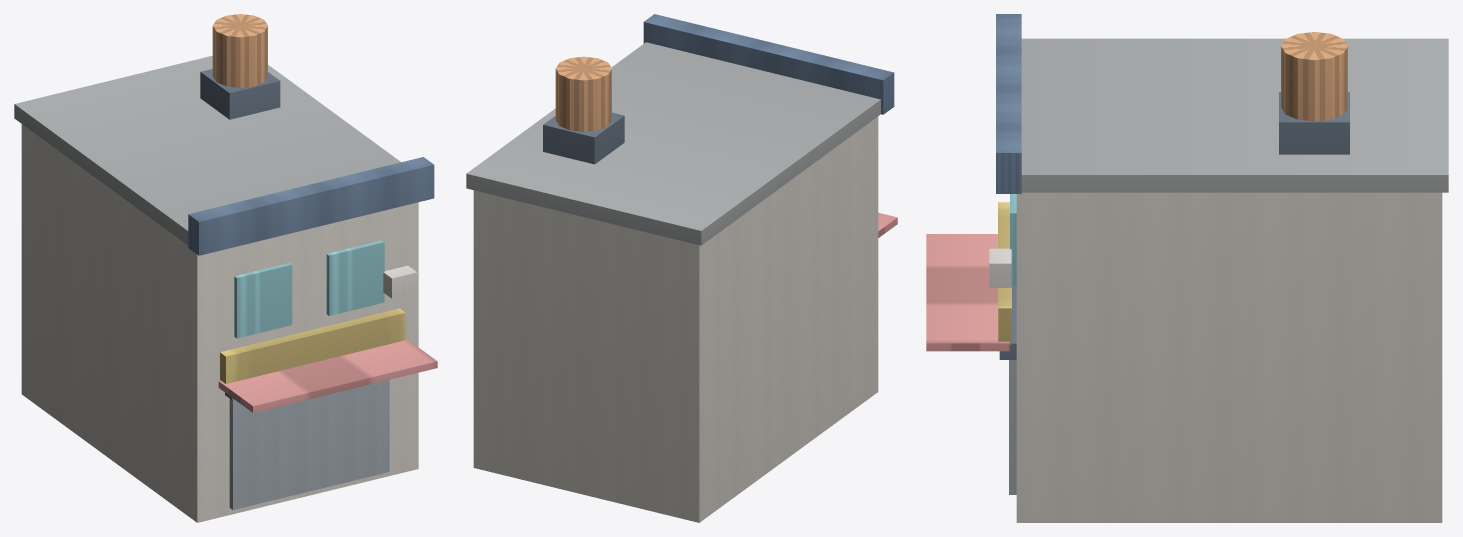
The model's file is ruko_small.glb.
3 views of the same model, side by side, from view 1: azimuth 30°, elevation 25°; view 2: azimuth 150°, elevation 25°; view 3: azimuth 270°, elevation 25° (orthographic). The views are drawn at different scales.
Visible parts, largest first — view 1: ruko_small; view 2: ruko_small; view 3: ruko_small.
Part boxes in pixels (box(x1,y1,x2,y2)): ruko_small: box(14, 14, 437, 522); ruko_small: box(466, 14, 897, 522); ruko_small: box(926, 14, 1448, 522).
Bounding box in the file's own units: 5.1 × 7.6 × 8.1.
1 material, 1 textured.
